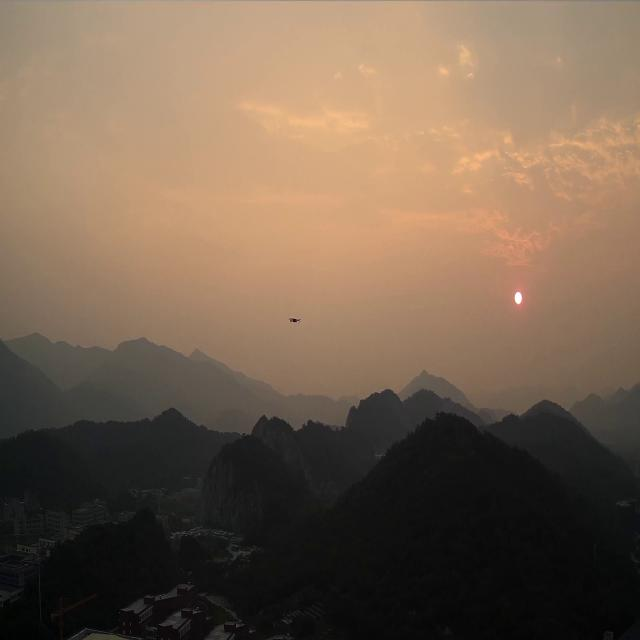drone: (288, 316, 302, 324)
